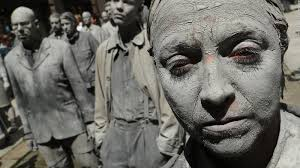zombie: (155, 26, 279, 153)
